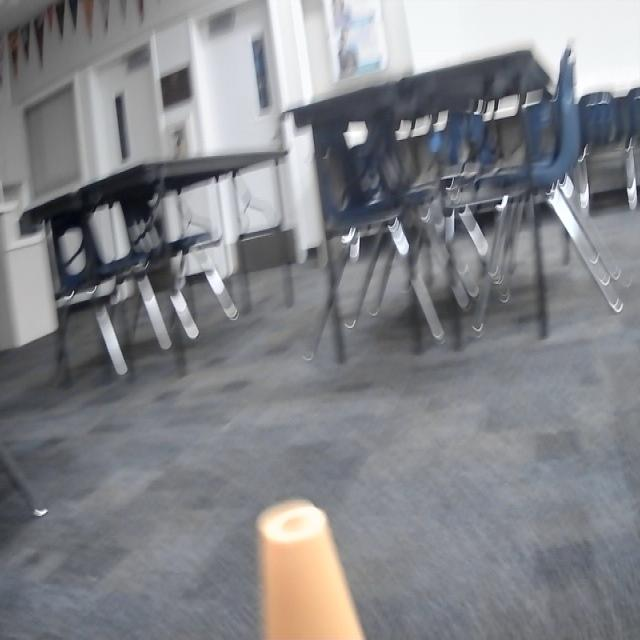cone: (260, 499, 368, 640)
